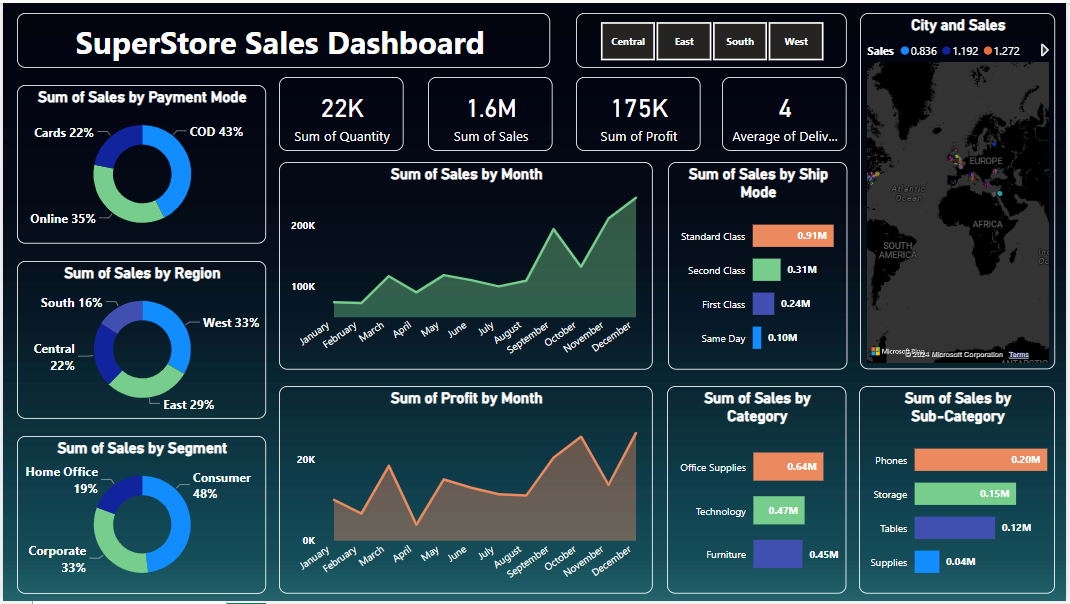

This screenshot's page, from the dashboard's own definition file:
{"tool":"powerbi","page":{"name":"SuperStore Sales Dashboard","canvas":[1280,720],"ordinal":0},"visuals":[{"type":"donutChart","fields":{"Category":["SuperStore_Sales_Dataset - Rishav Mishra.Payment Mode"],"Y":["SuperStore_Sales_Dataset - Rishav Mishra.Sales"]},"box":[16.5,99,299.7,191.1],"z":0},{"type":"donutChart","fields":{"Category":["SuperStore_Sales_Dataset - Rishav Mishra.Region"],"Y":["SuperStore_Sales_Dataset - Rishav Mishra.Sales"]},"box":[16.5,310.7,299.7,189.7],"z":1000},{"type":"donutChart","fields":{"Category":["SuperStore_Sales_Dataset - Rishav Mishra.Segment"],"Y":["SuperStore_Sales_Dataset - Rishav Mishra.Sales"]},"box":[16.5,521.1,299.7,189.7],"z":2000},{"type":"areaChart","fields":{"Category":["SuperStore_Sales_Dataset - Rishav Mishra.Order Date.Variation.Date Hierarchy.Month"],"Y":["SuperStore_Sales_Dataset - Rishav Mishra.Sales"]},"box":[332.7,191.2,450,250],"z":3000},{"type":"areaChart","fields":{"Category":["SuperStore_Sales_Dataset - Rishav Mishra.Order Date.Variation.Date Hierarchy.Month"],"Y":["SuperStore_Sales_Dataset - Rishav Mishra.Profit"]},"box":[332.7,460.6,450,250.2],"z":4000},{"type":"barChart","fields":{"Y":["SuperStore_Sales_Dataset - Rishav Mishra.Sales"],"Category":["SuperStore_Sales_Dataset - Rishav Mishra.Ship Mode"]},"box":[800.2,191,215.9,250.2],"z":5000},{"type":"barChart","fields":{"Y":["SuperStore_Sales_Dataset - Rishav Mishra.Sales"],"Category":["SuperStore_Sales_Dataset - Rishav Mishra.Sub-Category"]},"box":[1031.1,460.6,236.5,250.2],"z":6000},{"type":"barChart","fields":{"Y":["SuperStore_Sales_Dataset - Rishav Mishra.Sales"],"Category":["SuperStore_Sales_Dataset - Rishav Mishra.Category"]},"box":[799,460.6,215.9,250.2],"z":7000},{"type":"map","fields":{"Category":["SuperStore_Sales_Dataset - Rishav Mishra.City"],"Series":["SuperStore_Sales_Dataset - Rishav Mishra.Sales"]},"box":[1031.7,11.7,234.9,429.5],"z":8000},{"type":"textbox","box":[16.5,12.4,642.1,66],"z":9000},{"type":"card","fields":{"Values":["SuperStore_Sales_Dataset - Rishav Mishra.Quantity"]},"box":[332.7,89.4,149.9,89.4],"z":10000},{"type":"card","fields":{"Values":["SuperStore_Sales_Dataset - Rishav Mishra.Sales"]},"box":[511.5,89.4,149.9,89.4],"z":11000},{"type":"card","fields":{"Values":["SuperStore_Sales_Dataset - Rishav Mishra.Profit"]},"box":[690.2,89.4,149.9,89.4],"z":12000},{"type":"card","fields":{"Values":["SuperStore_Sales_Dataset - Rishav Mishra.Delivery Days"]},"box":[866.2,89.4,149.9,89.4],"z":13000},{"type":"slicer","fields":{"Values":["SuperStore_Sales_Dataset - Rishav Mishra.Region"]},"box":[690.2,12.4,325.8,66],"z":14000}]}

Visuals, with their boxes in screenshot pixels (x1, y1, x2, y2), scaled from the page's 1280x720 canvas onto the 1070x604 screenshot:
donutChart - SuperStore_Sales_Dataset - Rishav Mishra.Payment Mode x SuperStore_Sales_Dataset - Rishav Mishra.Sales: l=14, t=83, r=264, b=243
donutChart - SuperStore_Sales_Dataset - Rishav Mishra.Region x SuperStore_Sales_Dataset - Rishav Mishra.Sales: l=14, t=261, r=264, b=420
donutChart - SuperStore_Sales_Dataset - Rishav Mishra.Segment x SuperStore_Sales_Dataset - Rishav Mishra.Sales: l=14, t=437, r=264, b=596
areaChart - SuperStore_Sales_Dataset - Rishav Mishra.Order Date.Variation.Date Hierarchy.Month x SuperStore_Sales_Dataset - Rishav Mishra.Sales: l=278, t=160, r=654, b=370
areaChart - SuperStore_Sales_Dataset - Rishav Mishra.Order Date.Variation.Date Hierarchy.Month x SuperStore_Sales_Dataset - Rishav Mishra.Profit: l=278, t=386, r=654, b=596
barChart - SuperStore_Sales_Dataset - Rishav Mishra.Sales x SuperStore_Sales_Dataset - Rishav Mishra.Ship Mode: l=669, t=160, r=849, b=370
barChart - SuperStore_Sales_Dataset - Rishav Mishra.Sales x SuperStore_Sales_Dataset - Rishav Mishra.Sub-Category: l=862, t=386, r=1060, b=596
barChart - SuperStore_Sales_Dataset - Rishav Mishra.Sales x SuperStore_Sales_Dataset - Rishav Mishra.Category: l=668, t=386, r=848, b=596
map - SuperStore_Sales_Dataset - Rishav Mishra.City x SuperStore_Sales_Dataset - Rishav Mishra.Sales: l=862, t=10, r=1059, b=370
textbox: l=14, t=10, r=551, b=66
card - SuperStore_Sales_Dataset - Rishav Mishra.Quantity: l=278, t=75, r=403, b=150
card - SuperStore_Sales_Dataset - Rishav Mishra.Sales: l=428, t=75, r=553, b=150
card - SuperStore_Sales_Dataset - Rishav Mishra.Profit: l=577, t=75, r=702, b=150
card - SuperStore_Sales_Dataset - Rishav Mishra.Delivery Days: l=724, t=75, r=849, b=150
slicer - SuperStore_Sales_Dataset - Rishav Mishra.Region: l=577, t=10, r=849, b=66
